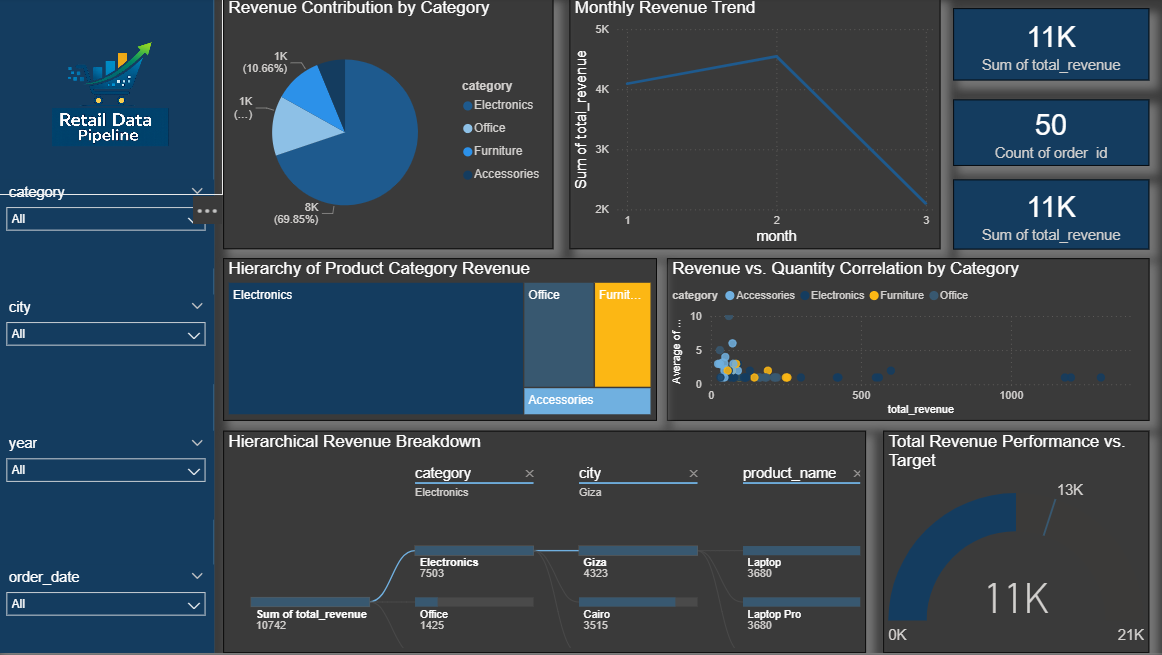

This screenshot's page, from the dashboard's own definition file:
{"tool":"powerbi","page":{"name":"Page 1","canvas":[1280,720],"ordinal":0},"visuals":[{"type":"lineChart","title":"Monthly Revenue Trend","fields":{"Category":["public dim_date.month"],"Y":["Sum(public fact_sales.total_revenue)"]},"box":[628.5,0,407.5,277.2],"z":0},{"type":"shape","box":[0,0,238.8,720.4],"z":1000},{"type":"slicer","fields":{"Values":["public dim_customer.city"]},"box":[0,326.6,238.8,98.8],"z":2000},{"type":"slicer","fields":{"Values":["public dim_date.year"]},"box":[0,476.2,238.8,97.4],"z":3000},{"type":"slicer","fields":{"Values":["public dim_date.order_date"]},"box":[0,623,238.8,97.4],"z":4000},{"type":"slicer","fields":{"Values":["public dim_product.category"]},"box":[0,200.3,238.8,97.4],"z":5000},{"type":"pieChart","title":"Revenue Contribution by Category","fields":{"Category":["public dim_product.category"],"Y":["Sum(public fact_sales.total_revenue)"]},"box":[248.4,0,362.3,277.2],"z":6000},{"type":"card","fields":{"Values":["Sum(public fact_sales.total_revenue)"]},"box":[1049.7,12.3,215.4,79.6],"z":7000},{"type":"card","fields":{"Values":["Count(public fact_sales.order_id)"]},"box":[1049.7,112.5,215.4,72.7],"z":8000},{"type":"card","fields":{"Values":["Sum(public fact_sales.total_revenue)"]},"box":[1049.7,200.3,215.4,76.8],"z":9000},{"type":"scatterChart","title":"Revenue vs. Quantity Correlation by Category","fields":{"X":["Sum(public fact_sales.total_revenue)1"],"Series":["public dim_product.category"],"Y":["public fact_sales.quantity"],"Size":["CountNonNull(public fact_sales.order_id)"]},"box":[735.5,286.8,529.7,178.4],"z":10000},{"type":"treemap","title":"Hierarchy of Product Category Revenue","fields":{"Group":["public dim_product.category","public dim_product.product_name"],"Values":["Sum(public fact_sales.total_revenue)"]},"box":[248.4,286.8,476.2,178.4],"z":11000},{"type":"gauge","title":"Total Revenue Performance vs. Target","fields":{"Y":["Sum(public fact_sales.total_revenue)"],"TargetValue":["public fact_sales.Sales Goal"]},"box":[972.9,476.2,292.3,244.3],"z":12000},{"type":"decompositionTreeVisual","title":"Hierarchical Revenue Breakdown","fields":{"Analyze":["Sum(public fact_sales.total_revenue)"],"ExplainBy":["public dim_product.category","public dim_customer.city","public dim_product.product_name"]},"box":[248.4,476.2,705.3,244.3],"z":13000},{"type":"image","box":[0,0,248.4,216.8],"z":14000}]}

Visuals, with their boxes in screenshot pixels (x1, y1, x2, y2):
"Monthly Revenue Trend" lineChart: bbox=[569, 3, 934, 251]
shape: bbox=[6, 3, 220, 648]
slicer - public dim_customer.city: bbox=[6, 295, 220, 384]
slicer - public dim_date.year: bbox=[6, 429, 220, 517]
slicer - public dim_date.order_date: bbox=[6, 561, 220, 648]
slicer - public dim_product.category: bbox=[6, 182, 220, 270]
"Revenue Contribution by Category" pieChart: bbox=[228, 3, 553, 251]
card - Sum(public fact_sales.total_revenue): bbox=[946, 14, 1139, 85]
card - Count(public fact_sales.order_id): bbox=[946, 104, 1139, 169]
card - Sum(public fact_sales.total_revenue): bbox=[946, 182, 1139, 251]
"Revenue vs. Quantity Correlation by Category" scatterChart: bbox=[665, 260, 1139, 420]
"Hierarchy of Product Category Revenue" treemap: bbox=[228, 260, 655, 420]
"Total Revenue Performance vs. Target" gauge: bbox=[877, 429, 1139, 648]
"Hierarchical Revenue Breakdown" decompositionTreeVisual: bbox=[228, 429, 860, 648]
image: bbox=[6, 3, 228, 197]
